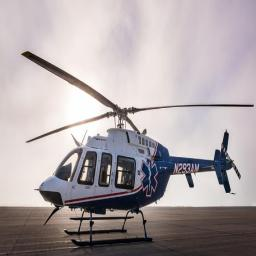helicopter: (27, 28, 245, 254)
